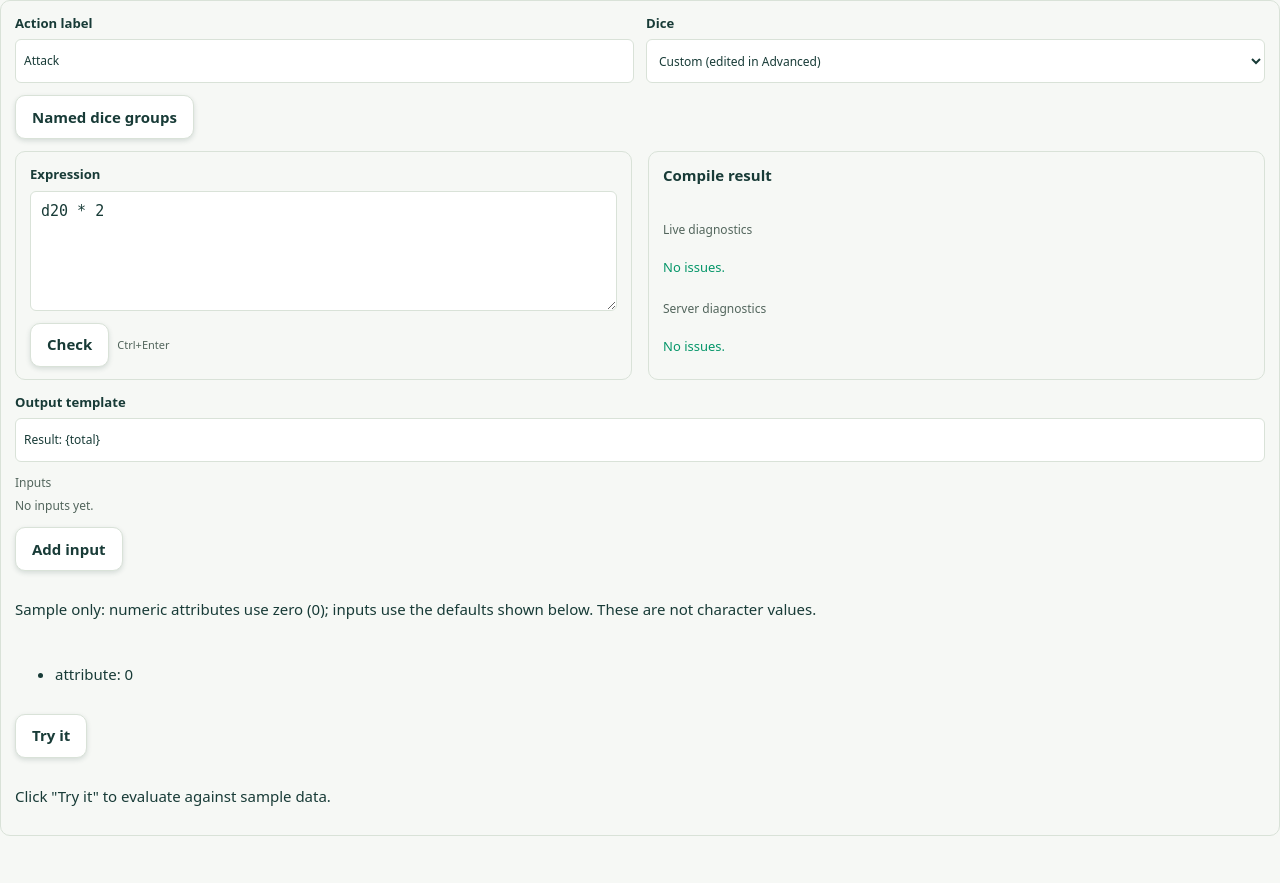
Scenario: offers guided named groups without overwriting a custom expression on opening
The width and height of the screenshot is (1280, 883).
Step 1. Click the button "Named dice groups" → coordinates (104, 117), box [15,95,194,139]
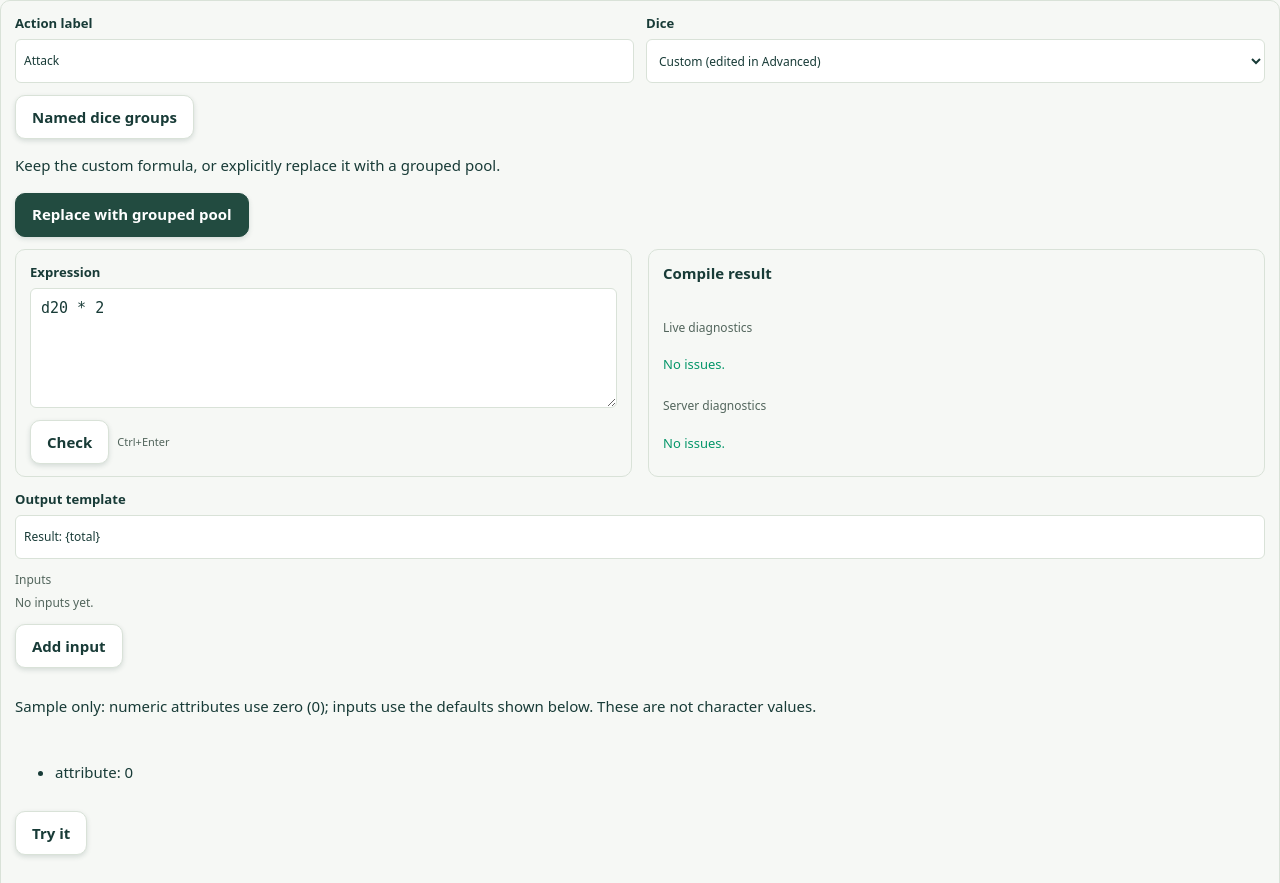
expect the text "Keep the custom formula, or explicitly replace it with a grouped pool." is shown: met, box [15,155,500,175]
